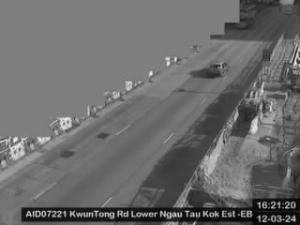truck: (284, 64, 300, 92)
vehicle: (209, 60, 231, 76)
